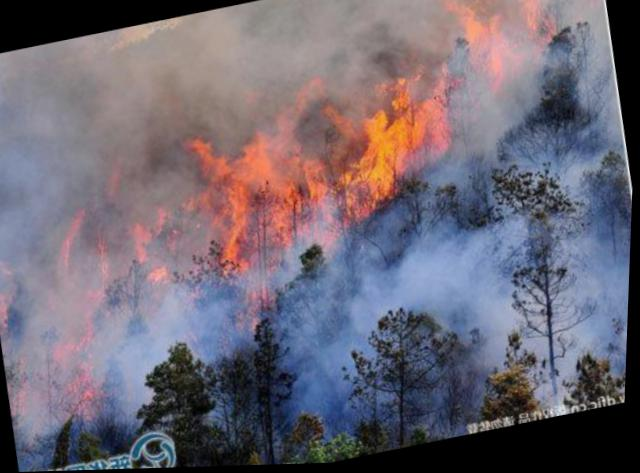fire: (213, 160, 265, 275), (362, 113, 415, 198), (411, 77, 460, 158), (238, 129, 293, 192), (388, 76, 426, 150), (478, 13, 514, 91), (270, 180, 310, 236), (508, 0, 558, 34), (306, 156, 336, 205), (192, 135, 228, 173), (459, 1, 488, 47), (344, 153, 376, 188)
